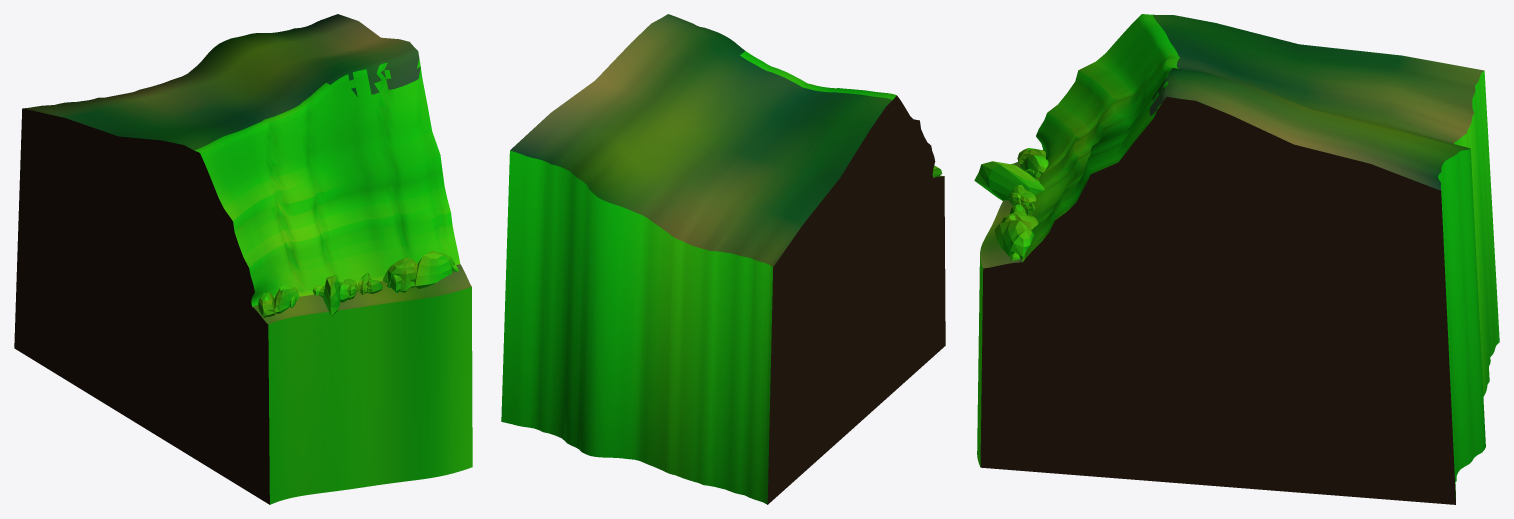
File: SM_ForestRisingCliffs_13.fbx
3 views of the same model, side by side, from view 1: azimuth 30°, elevation 25°; view 2: azimuth 150°, elevation 25°; view 3: azimuth 270°, elevation 25° (orthographic). The views are drawn at different scales.
Parts seen in each view (by area): view 1: SM_ForestRisingCliffs_13; view 2: SM_ForestRisingCliffs_13; view 3: SM_ForestRisingCliffs_13.
Part boxes in pixels (x1,y1,x2,y2): SM_ForestRisingCliffs_13: (14, 14, 472, 504); SM_ForestRisingCliffs_13: (501, 14, 945, 504); SM_ForestRisingCliffs_13: (974, 14, 1499, 504).
Size of the model in its own units: 43 by 58.68 by 47.67.
